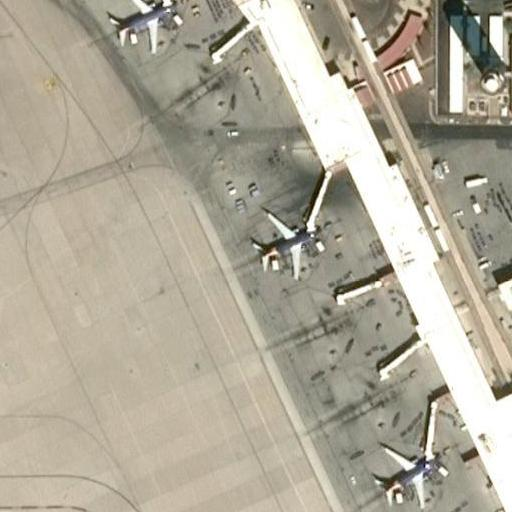Aircraft: (368, 433, 443, 509), (246, 202, 321, 277), (103, 0, 178, 55)
